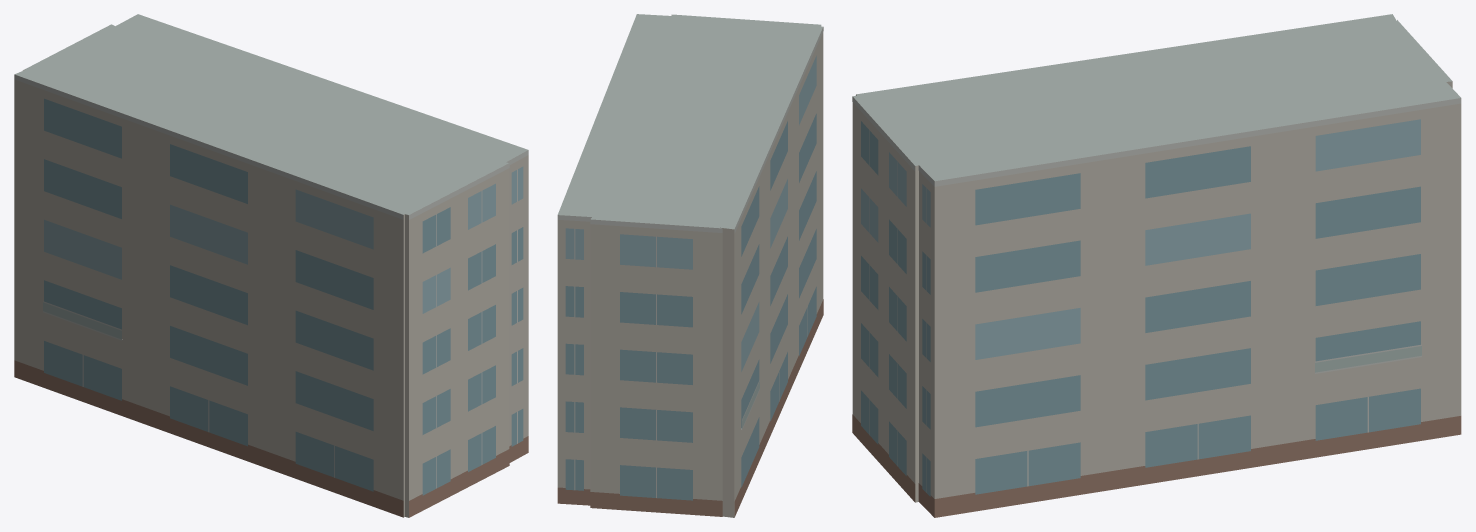
The model's file is survey-upis-32953184.glb.
The picture shows the model from 3 angles, left to right: view 1: azimuth 30°, elevation 25°; view 2: azimuth 150°, elevation 25°; view 3: azimuth 270°, elevation 25°; orthographic projection. The views are drawn at different scales.
Visible parts, largest first — view 1: survey-upis-32953184.tmp; view 2: survey-upis-32953184.tmp; view 3: survey-upis-32953184.tmp.
Part boxes in pixels (left/top/right/bottom): survey-upis-32953184.tmp: left=14, top=14, right=528, bottom=517; survey-upis-32953184.tmp: left=557, top=14, right=823, bottom=517; survey-upis-32953184.tmp: left=852, top=14, right=1461, bottom=517.
Bounding box in the file's own units: 15.79 × 14.8 × 24.28.
